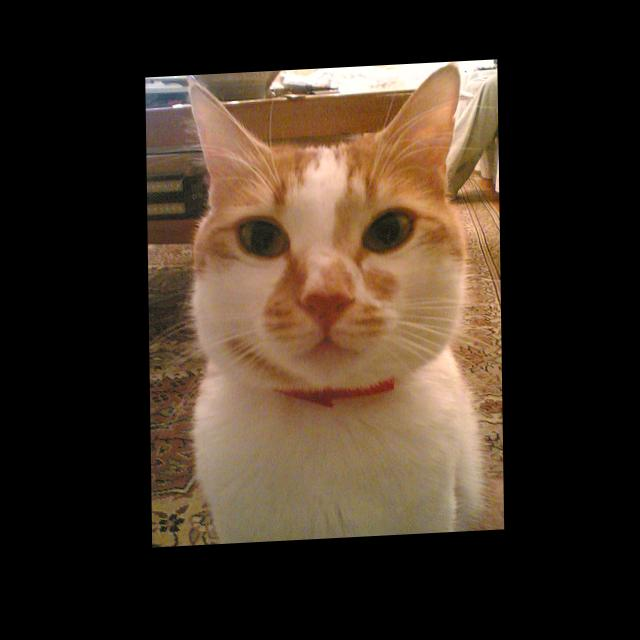animals: (194, 69, 455, 334)
